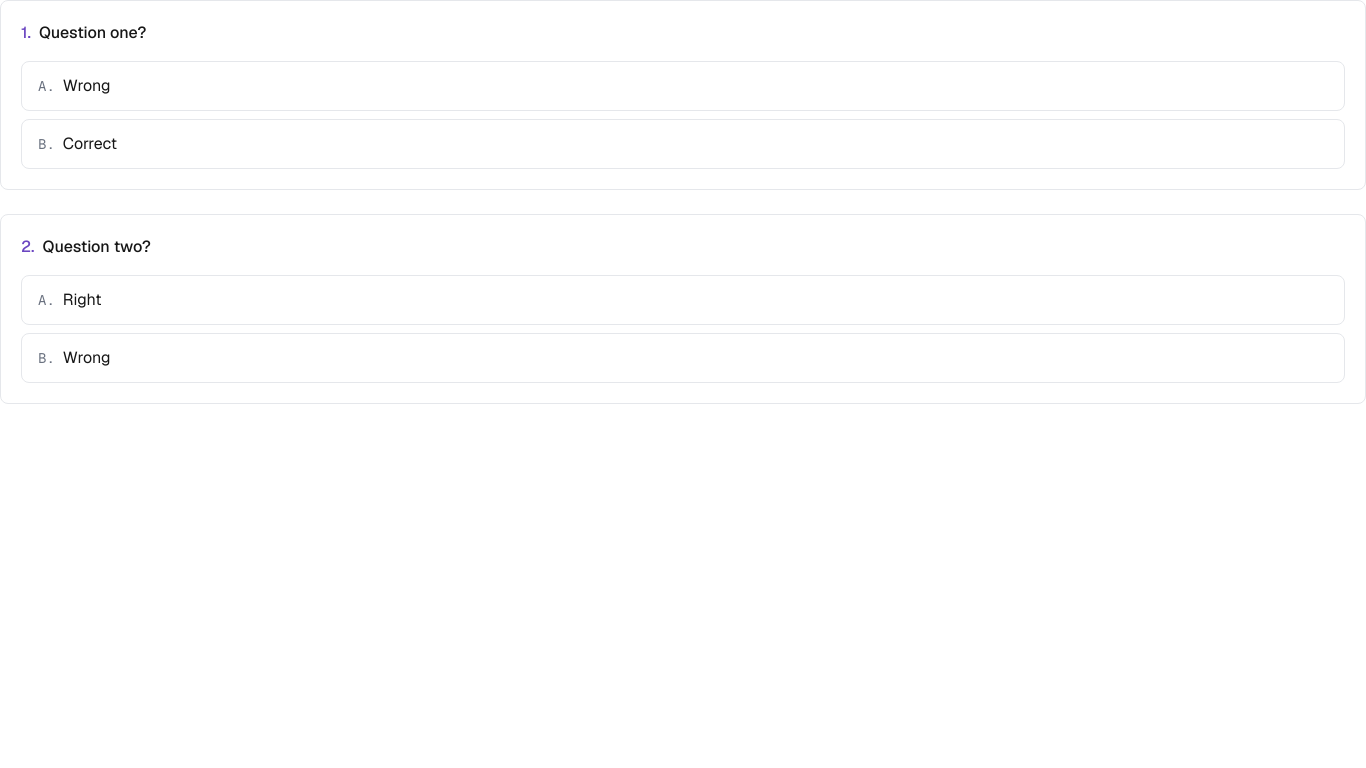
Quiz › shows encouraging message for partial score
// "Wrong" appears in both questions, use getAllByText to target the first one
Click the button "A.Wrong". click: coordinates (87, 86)
box: [21,61,1345,111]
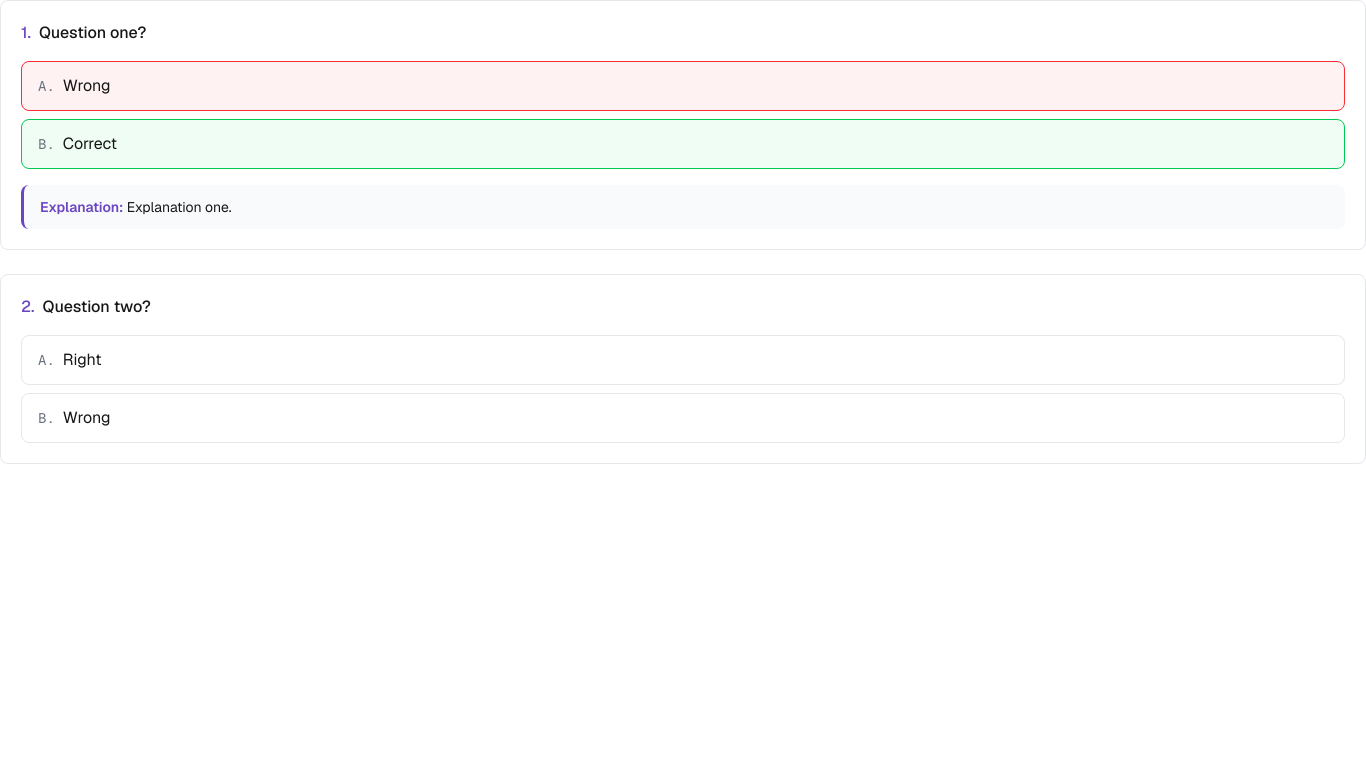
Click the button "A.Right". click: coordinates (82, 360)
box: [21,335,1345,385]
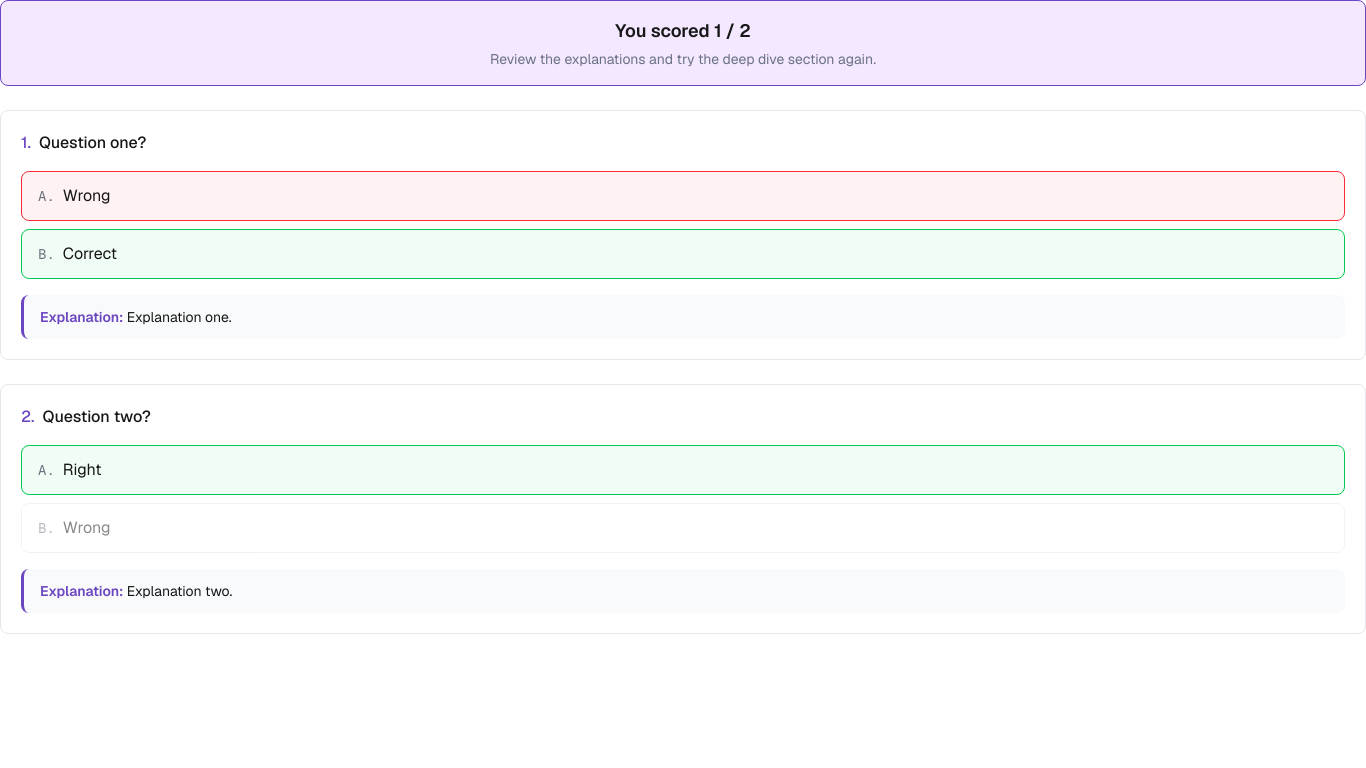
Check: the text "You scored 1 / 2" is shown, box [615,19,751,42]
Check: the text "Review the explanations and try the deep dive section again." is shown, box [490,50,876,68]
